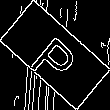P_NE: (26, 24, 84, 86)
